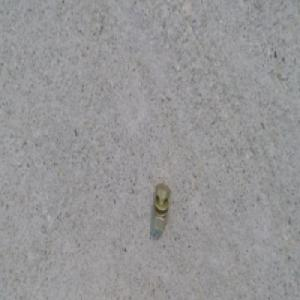BoltNutSet: (152, 182, 170, 229)
